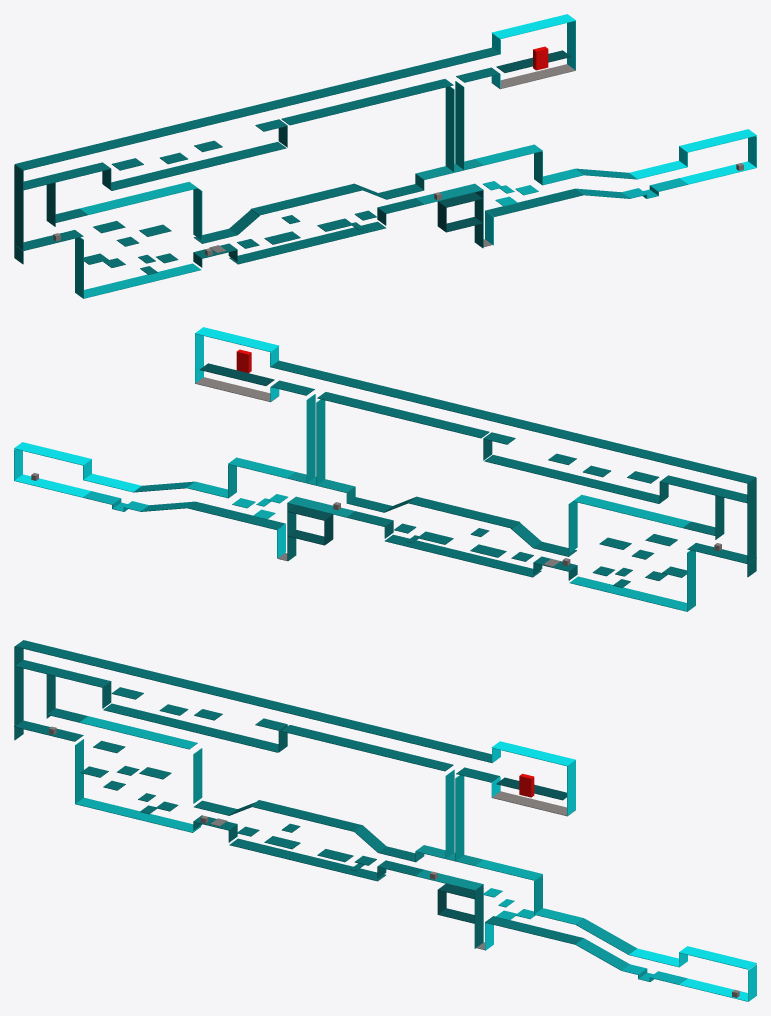
Rendered from --MAP-- (1).fbx.
3 views of the same model, one above another, from view 1: azimuth 30°, elevation 25°; view 2: azimuth 150°, elevation 25°; view 3: azimuth 330°, elevation 25° (orthographic).
Parts seen in each view (by area): view 1: Cube__44___15_, Cube__27___1_, Cube__44___14_, Cube__27_, Cube__44___13_, Cube__24_, Cube__34_, Cube__30_, Cube__44___5_, Cube__44___8_, Cube__33___2_, Cube__33___1_ (+12 smaller); view 2: Cube__44___15_, Cube__27___1_, Cube__44___14_, Cube__27_, Cube__44___13_, Cube__24_, Cube__34_, Cube__30_, Cube__44___5_, Cube__44___8_, Cube__33___2_, Cube__33___1_ (+12 smaller); view 3: Cube__44___15_, Cube__27___1_, Cube__44___14_, Cube__27_, Cube__44___13_, Cube__24_, Cube__34_, Cube__30_, Cube__44___9_, Cube__33___1_, Cube__44___8_, Cube__44___5_ (+5 smaller).
Boxes of the visible parts, x1,y1,x2,y2 form: Cube__44___15_: [241, 56, 465, 115]; Cube__27___1_: [105, 142, 286, 190]; Cube__44___14_: [281, 79, 453, 125]; Cube__27_: [229, 221, 385, 264]; Cube__44___13_: [103, 109, 249, 148]; Cube__24_: [84, 263, 201, 298]; Cube__34_: [80, 181, 197, 214]; Cube__30_: [250, 183, 362, 215]; Cube__44___5_: [14, 164, 23, 264]; Cube__44___8_: [15, 142, 110, 170]; Cube__33___2_: [455, 81, 464, 169]; Cube__33___1_: [445, 86, 454, 172]; Cube__44___15_: [305, 369, 529, 428]; Cube__27___1_: [484, 455, 665, 503]; Cube__44___14_: [317, 392, 489, 438]; Cube__27_: [385, 534, 541, 577]; Cube__44___13_: [522, 422, 667, 461]; Cube__24_: [569, 576, 686, 611]; Cube__34_: [573, 494, 690, 527]; Cube__30_: [408, 496, 520, 528]; Cube__44___5_: [747, 477, 756, 577]; Cube__44___8_: [660, 455, 755, 483]; Cube__33___2_: [306, 394, 315, 482]; Cube__33___1_: [316, 399, 325, 485]; Cube__44___15_: [240, 695, 464, 754]; Cube__27___1_: [103, 703, 278, 752]; Cube__44___14_: [281, 725, 453, 771]; Cube__27_: [229, 838, 385, 881]; Cube__44___13_: [103, 661, 248, 701]; Cube__24_: [75, 797, 201, 832]; Cube__34_: [79, 716, 197, 749]; Cube__30_: [250, 800, 361, 831]; Cube__44___9_: [15, 660, 110, 687]; Cube__33___1_: [445, 769, 454, 858]; Cube__44___8_: [15, 640, 110, 667]; Cube__44___5_: [14, 646, 23, 740].
Size of what is drawn, in the model's own units: 29147 by 7793 by 870.
